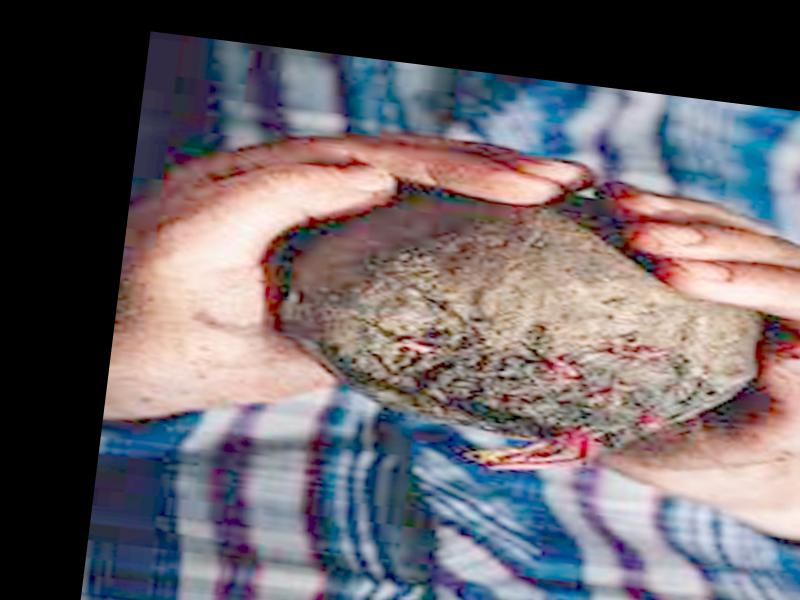Beet: (258, 171, 773, 501)
